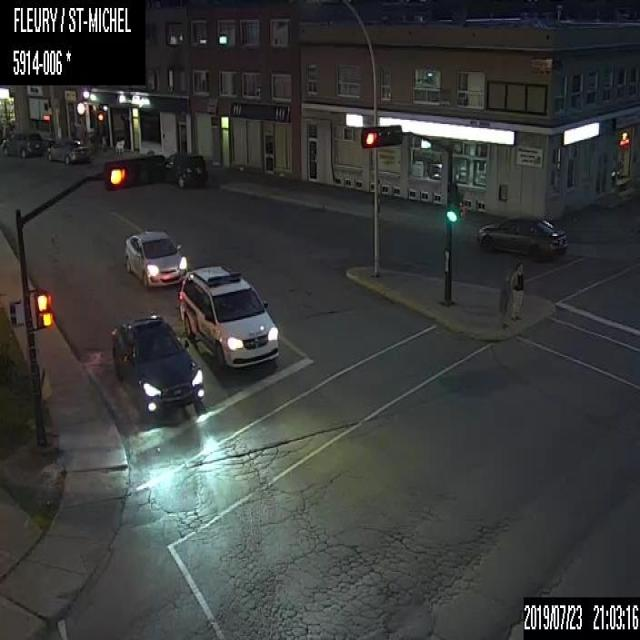pedestrian: (511, 262, 524, 330), (499, 269, 511, 331)
vehicle: (174, 259, 281, 371), (110, 309, 205, 419), (476, 212, 566, 263), (123, 226, 188, 288), (164, 149, 206, 188), (45, 135, 95, 165), (1, 128, 44, 157)
